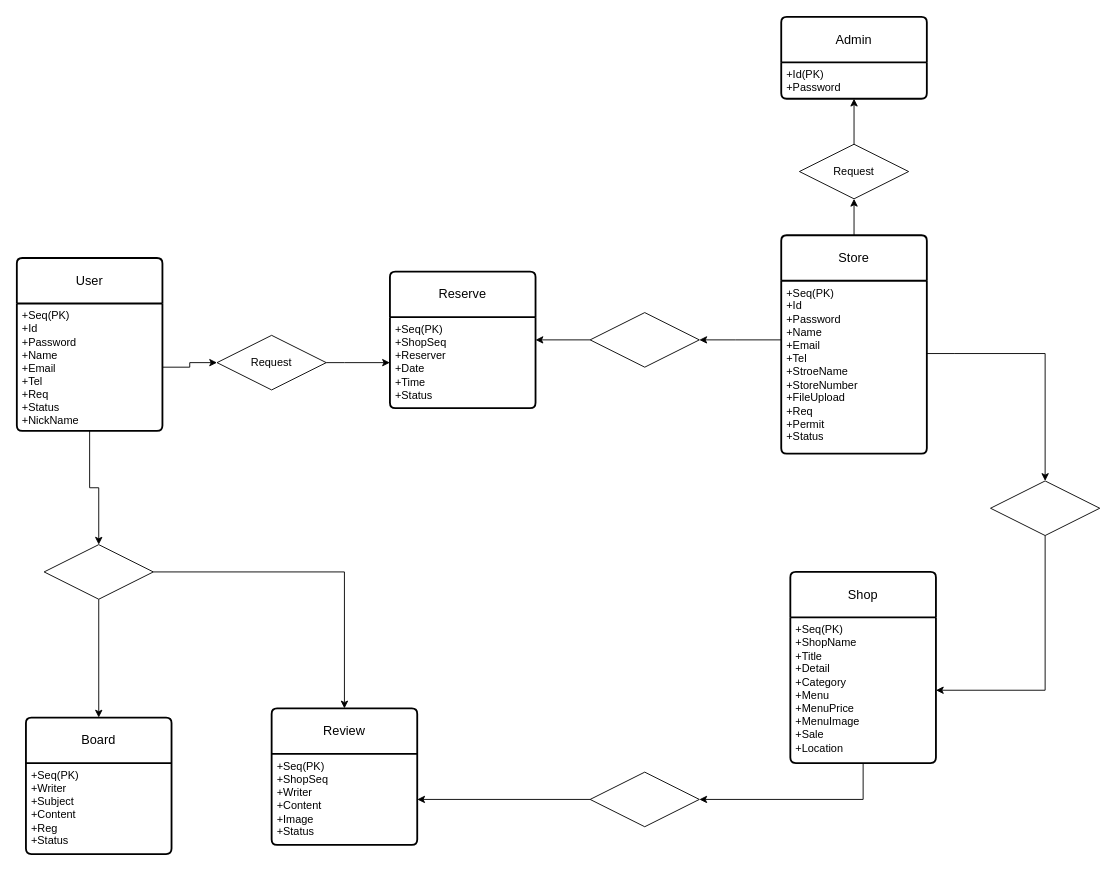
Image size: 1116x870. Some labels were removed from this diagram. The centre of each missing label's shape, as x and y in pixels:
"check" belongs at (644,799).
"has" belongs at (1045,508).
"Response" belongs at (644,339).
"Writer" belongs at (98,571).
